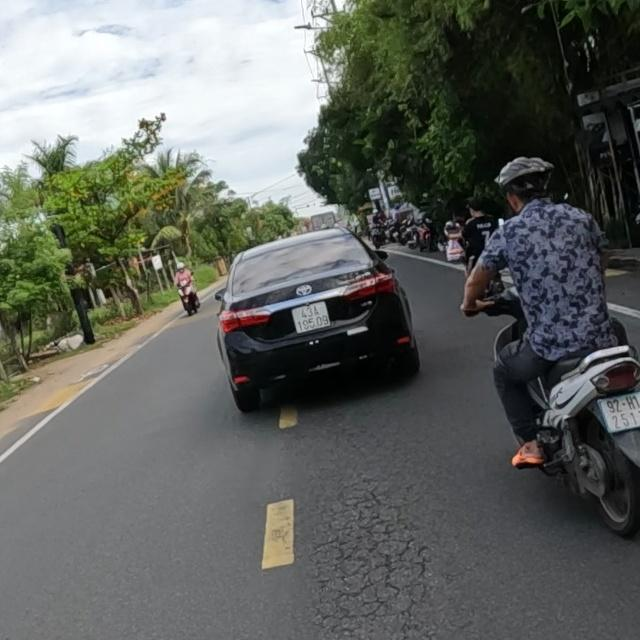license-plate: (594, 389, 640, 435), (290, 300, 332, 334)
